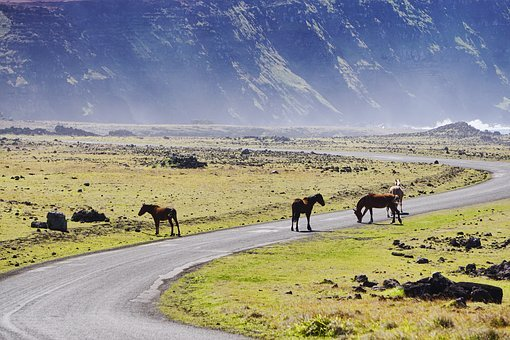field: (1, 125, 507, 337)
sky: (1, 1, 506, 132)
